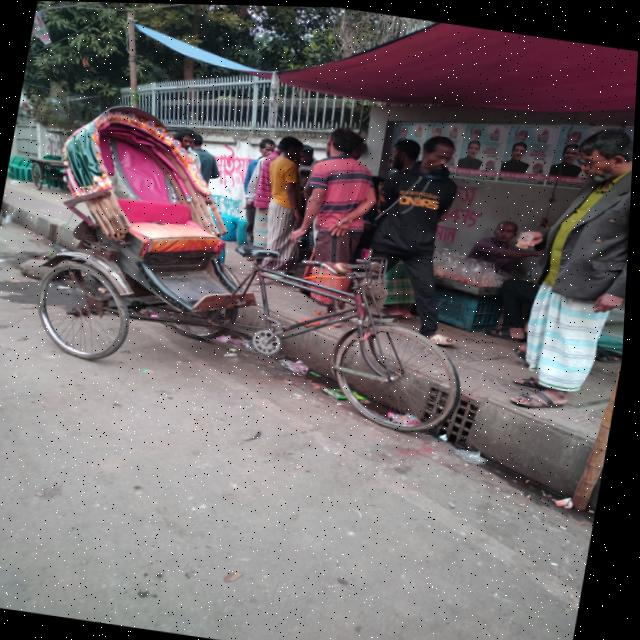rikshaw: (5, 78, 499, 452)
